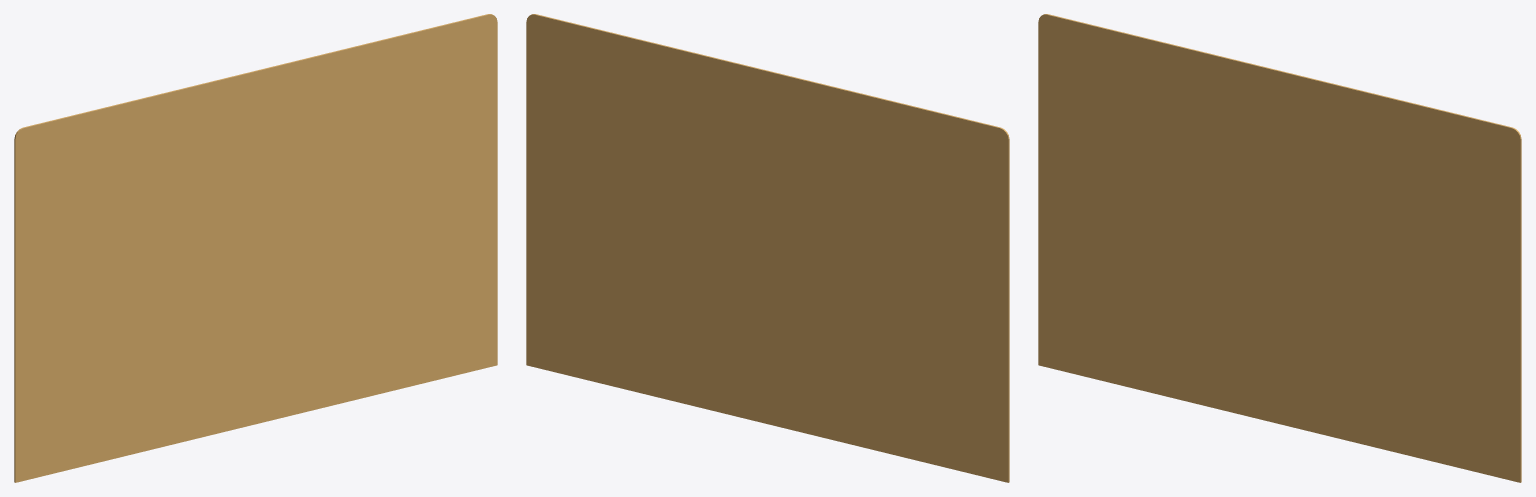
Rendered from folderBack.glb.
The picture shows the model from 3 angles, left to right: view 1: azimuth 30°, elevation 25°; view 2: azimuth 150°, elevation 25°; view 3: azimuth 330°, elevation 25°; orthographic projection.
Visible parts, largest first — view 1: folderBack; view 2: folderBack; view 3: folderBack.
Boxes of the visible parts, x1,y1,x2,y2 form: folderBack: (14,14,497,482); folderBack: (526,14,1009,482); folderBack: (1038,14,1521,482).
Size of the model in its own units: 5.95 by 4.16 by 0.02.
